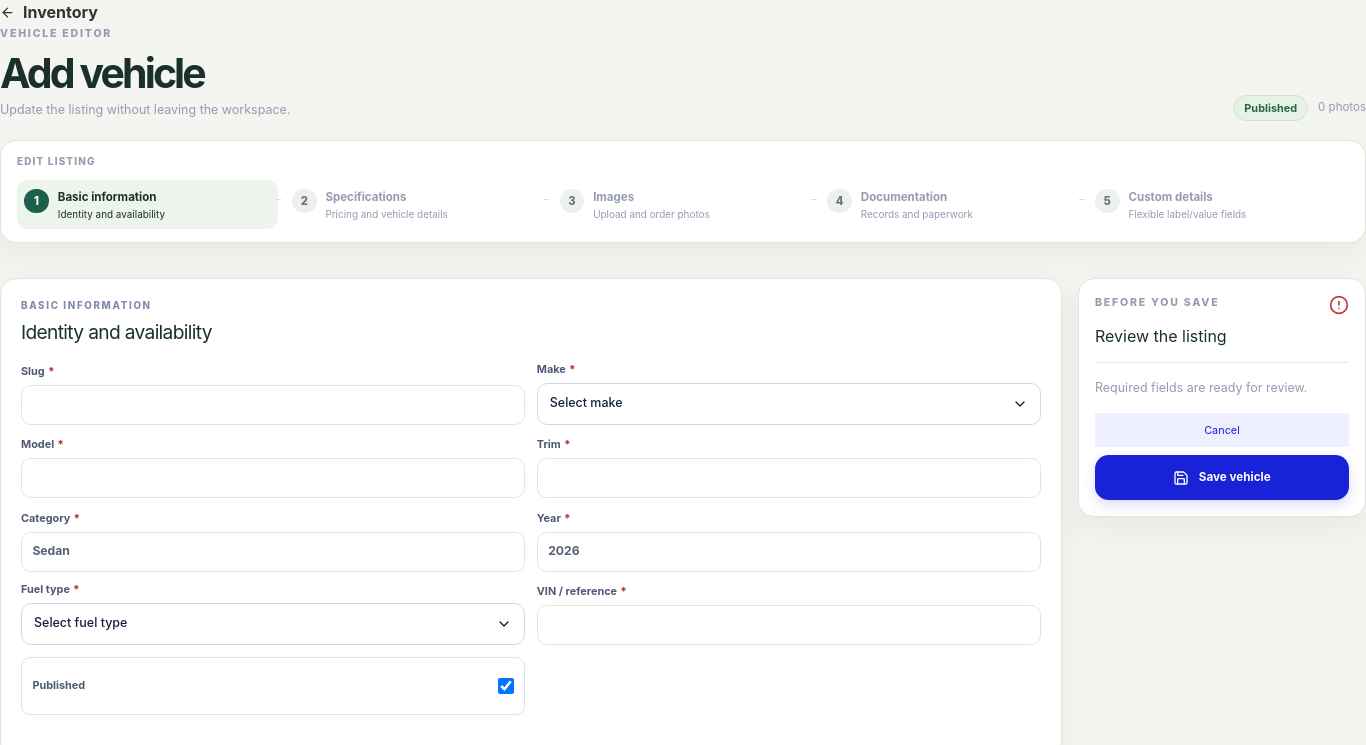
AdminInventoryPanel option management › blocks saving and focuses validation feedback when required fields are missing
Click the button "Save vehicle".
click(1222, 478)  # box [1095,455,1349,500]
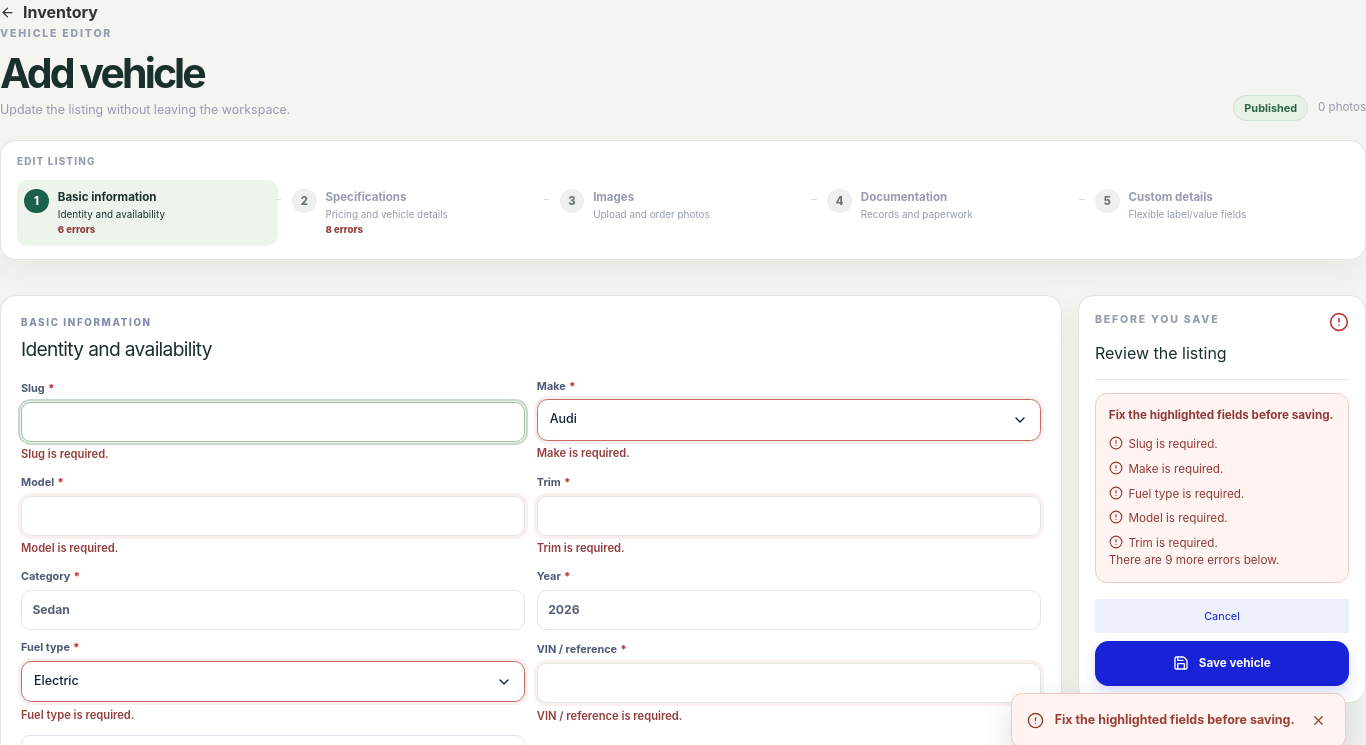
Expected: the text "Slug is required." is shown, [21,447,109,461]
